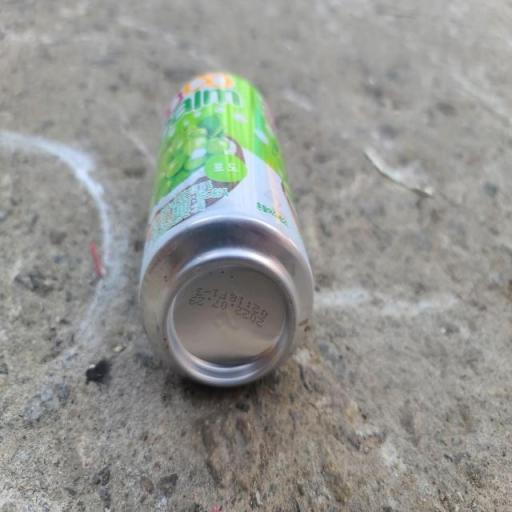metal: (111, 55, 336, 423)
